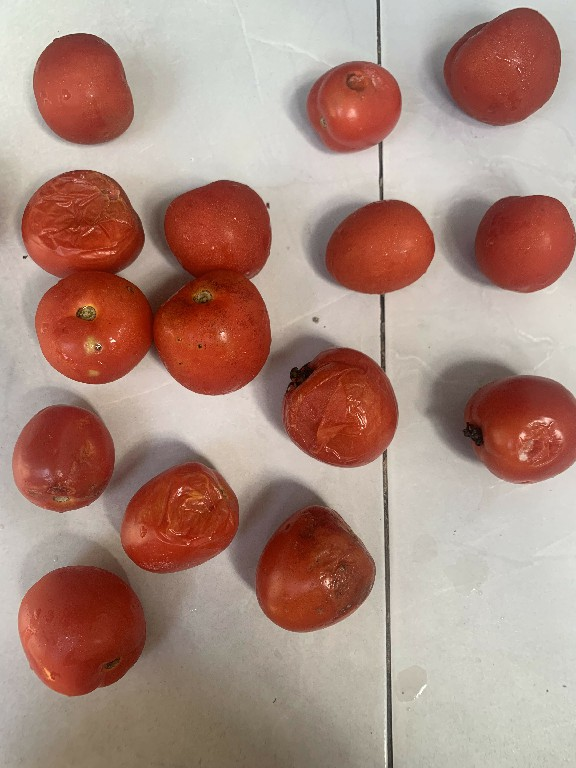NG: (256, 490, 387, 638), (150, 271, 280, 404), (120, 447, 244, 581), (17, 156, 144, 277), (453, 369, 571, 494), (29, 274, 152, 392), (282, 349, 403, 468), (294, 52, 406, 162), (11, 399, 115, 508)
OK: (14, 561, 153, 696), (436, 2, 559, 136), (29, 26, 147, 151), (159, 168, 280, 277), (469, 179, 576, 301), (319, 196, 439, 301)
